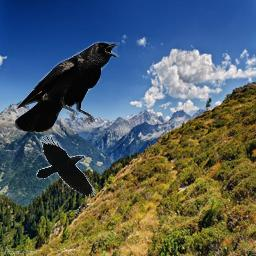Crow: (15, 41, 120, 132), (36, 134, 96, 196)
